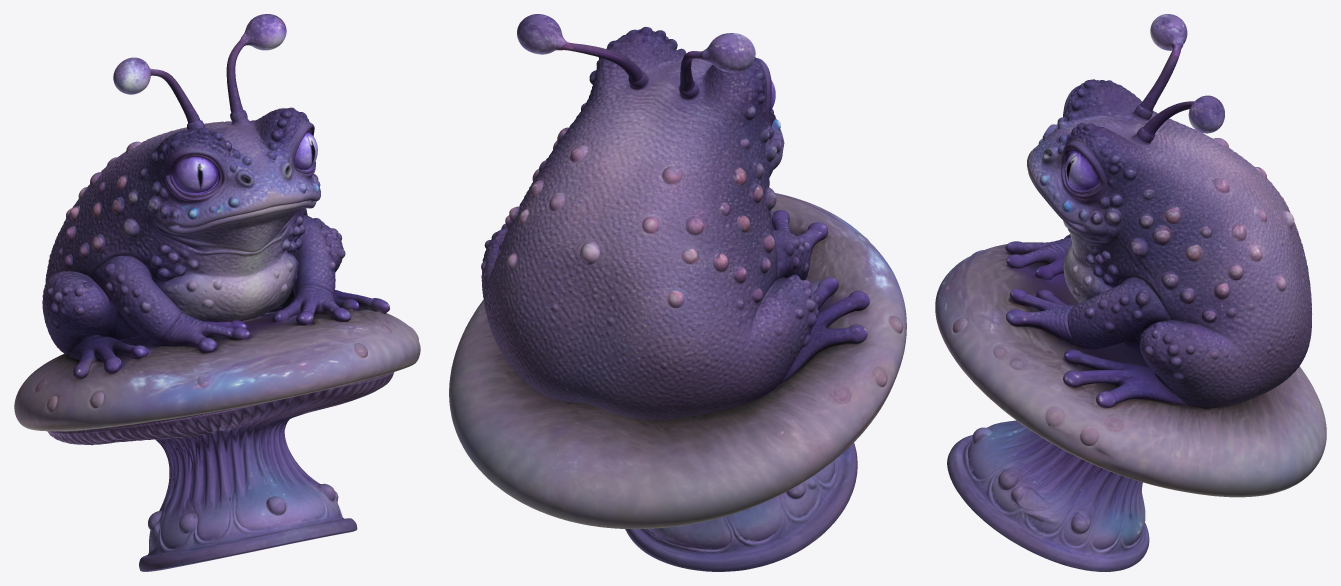
The model's file is agent-03.glb.
3 views of the same model, side by side, from view 1: azimuth 30°, elevation 25°; view 2: azimuth 150°, elevation 25°; view 3: azimuth 270°, elevation 25° (orthographic). The views are drawn at different scales.
Parts seen in each view (by area): view 1: material; view 2: material; view 3: material.
Boxes of the visible parts, <box> form: material: <box>14,14,420,571</box>; material: <box>449,14,906,571</box>; material: <box>935,14,1326,571</box>.
Size of the model in its own units: 0.8349 by 1.11 by 0.7841.
Materials: 1 (1 with a texture image).
